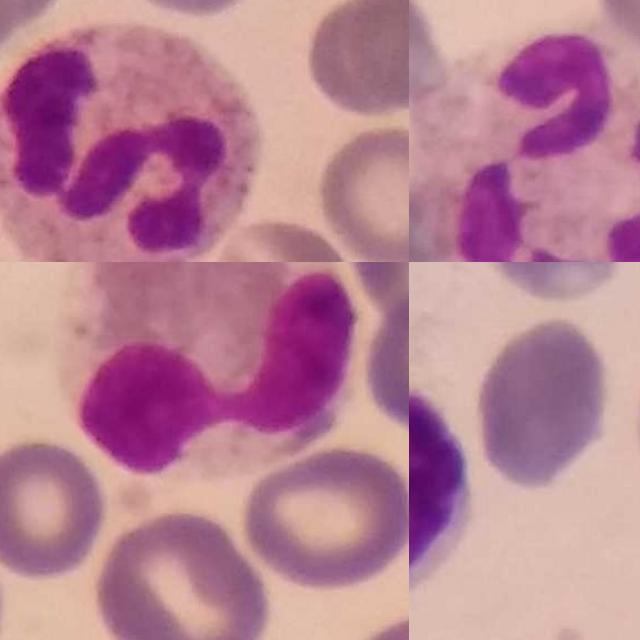Eosinophil: (53, 262, 364, 486)
Lymphocyte: (409, 384, 472, 598)
Neutrophil: (0, 20, 256, 262), (416, 30, 640, 262)
